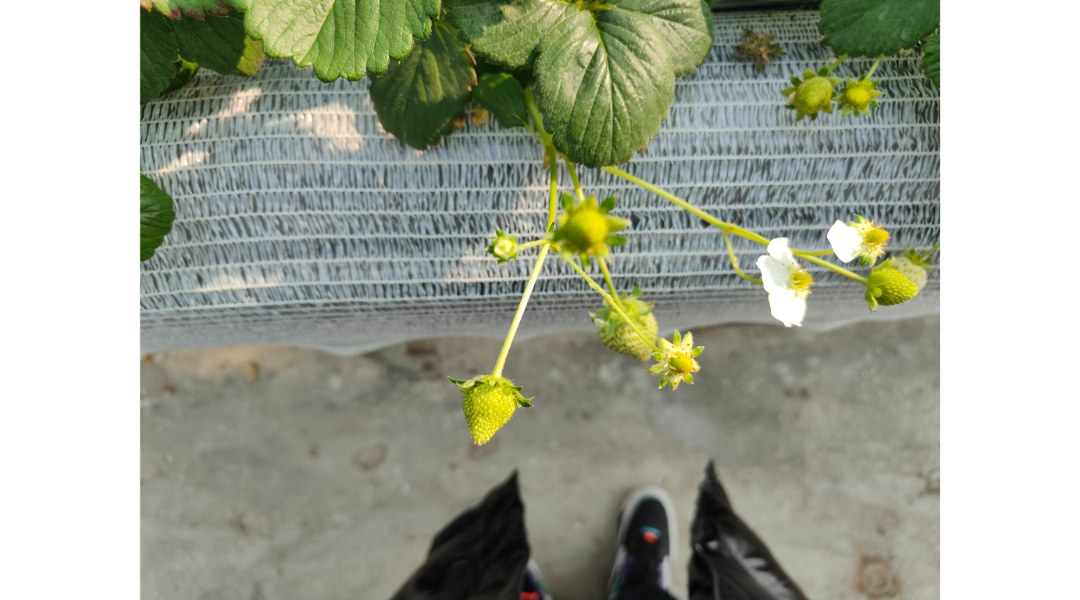berry: (535, 186, 643, 266), (445, 362, 529, 455), (586, 279, 660, 355), (861, 248, 925, 318), (649, 329, 701, 410), (480, 229, 519, 266)
flower: (752, 227, 815, 331), (818, 208, 889, 262)
strain: (618, 162, 734, 234), (483, 265, 543, 394)
